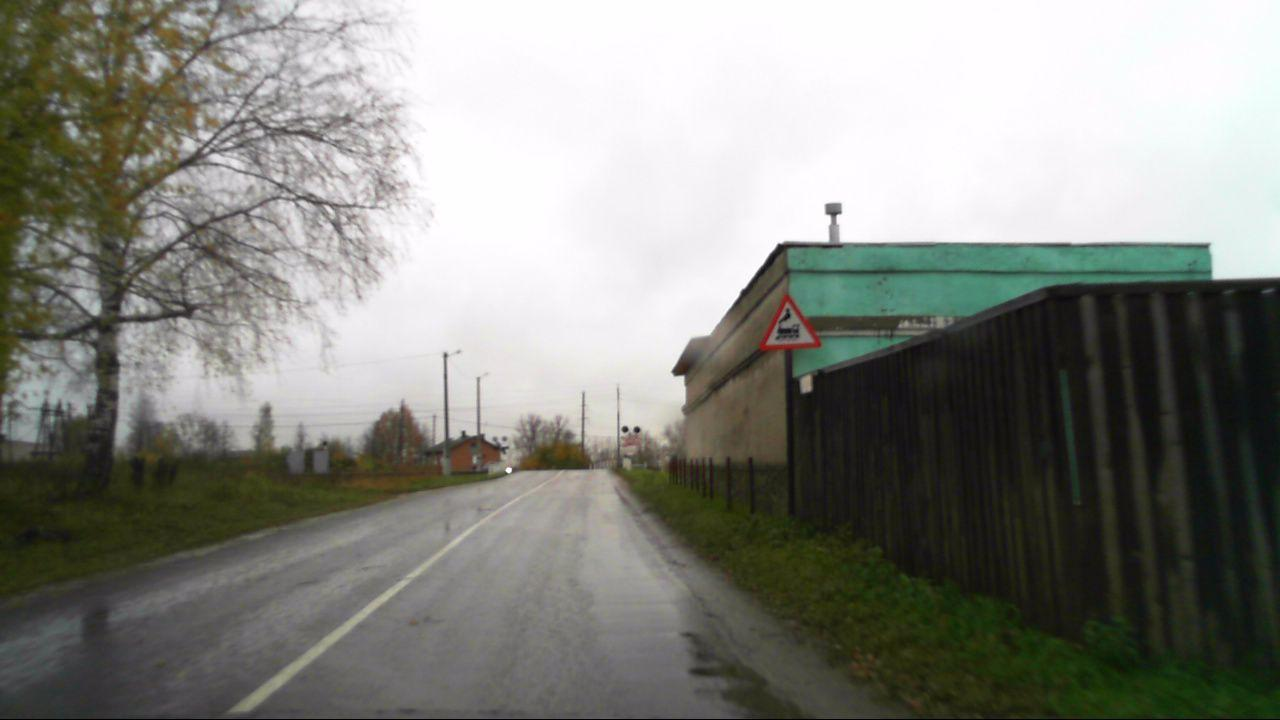1_2: (758, 292, 825, 350)
1_3_1: (620, 435, 638, 445)
